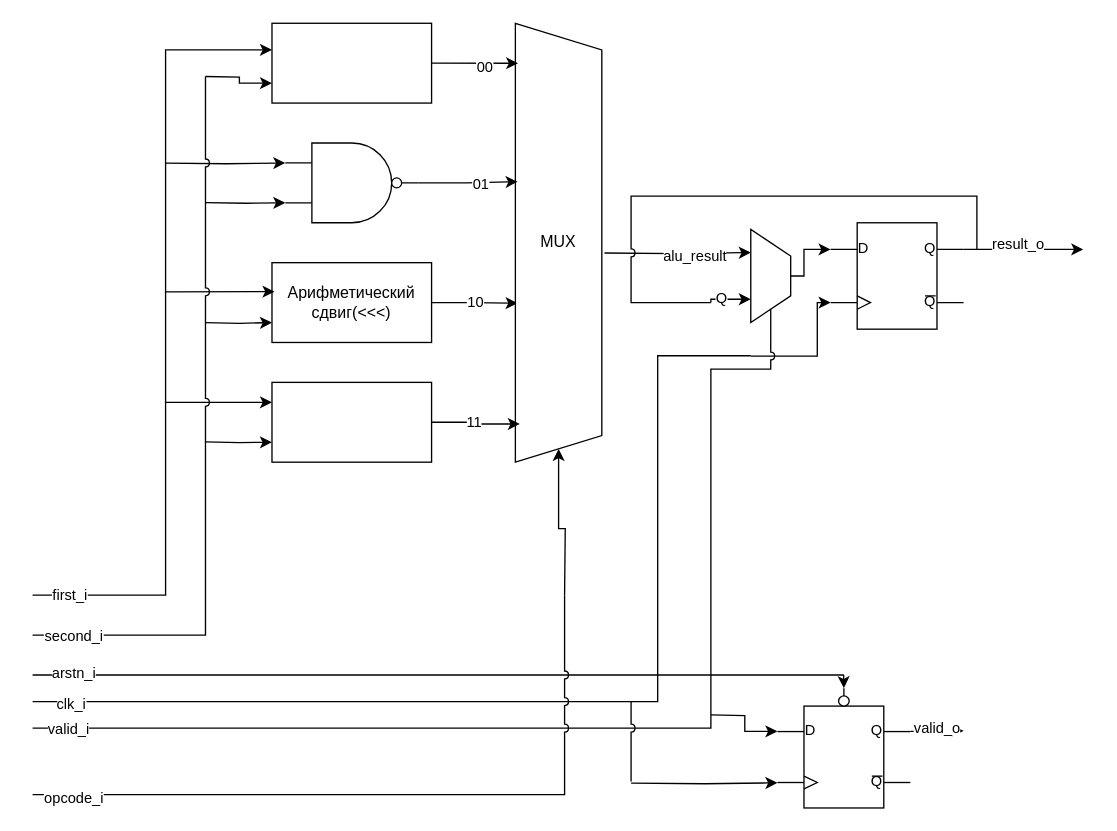
Some shapes in this 1117 by 831 pixel diagram are drawn without their labels. Each missing label, with the box of its shape:
Компаратор(!=): (271, 381, 432, 462)
Сложение(без знака): (271, 22, 432, 103)
